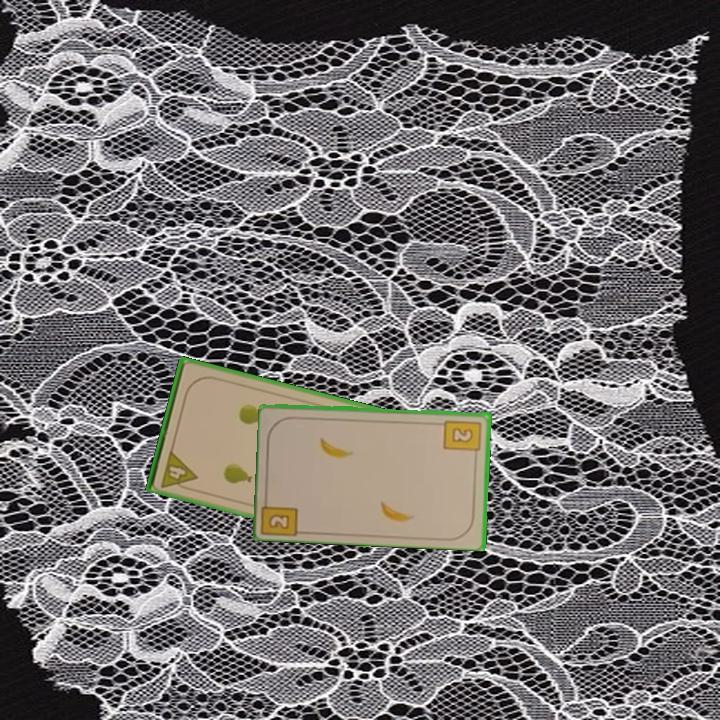2b: (260, 491, 302, 537), (441, 416, 484, 459)
4p: (157, 446, 200, 494)
